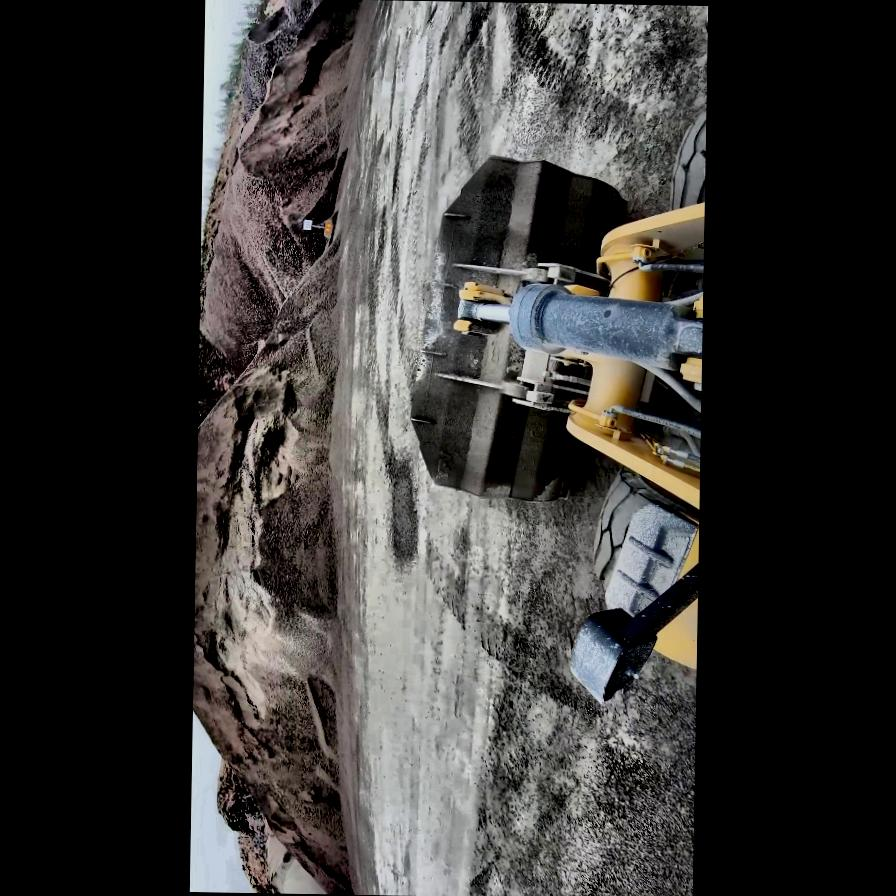anchor: (450, 276, 508, 336)
pile of gravel: (188, 226, 379, 894), (199, 0, 364, 350), (269, 841, 358, 894)
